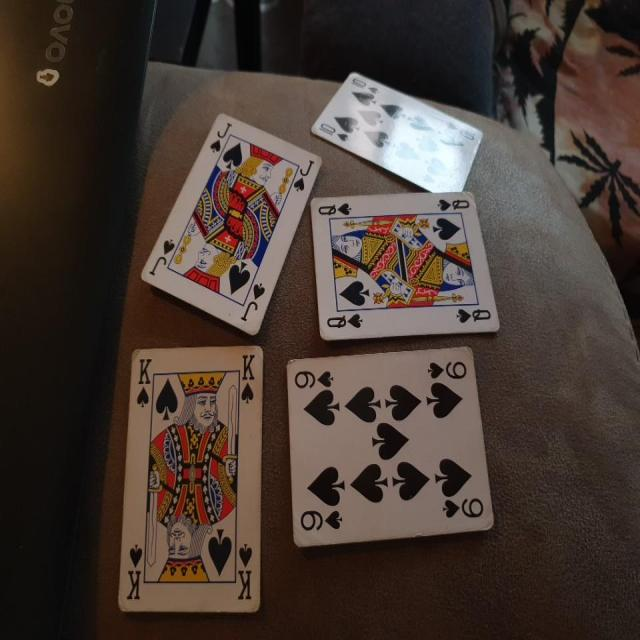10 Spades: (307, 65, 488, 196)
9 Spades: (280, 342, 497, 553)
J Spades: (132, 105, 326, 339)
K Spades: (116, 341, 268, 627)
Q Spades: (308, 190, 502, 342)
